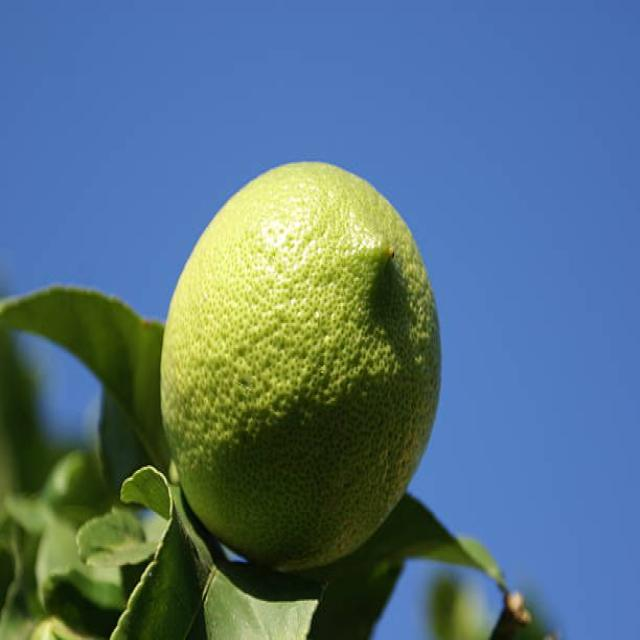Lemon: (157, 156, 445, 578)
